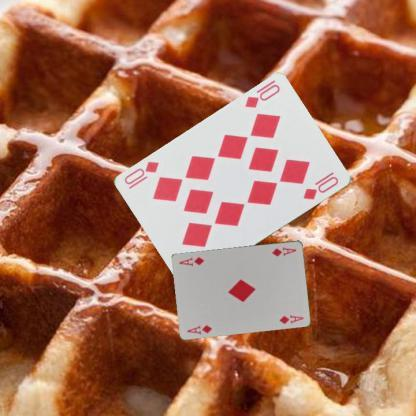10d: (242, 77, 282, 110)
Ad: (184, 322, 214, 336), (269, 244, 298, 258)
